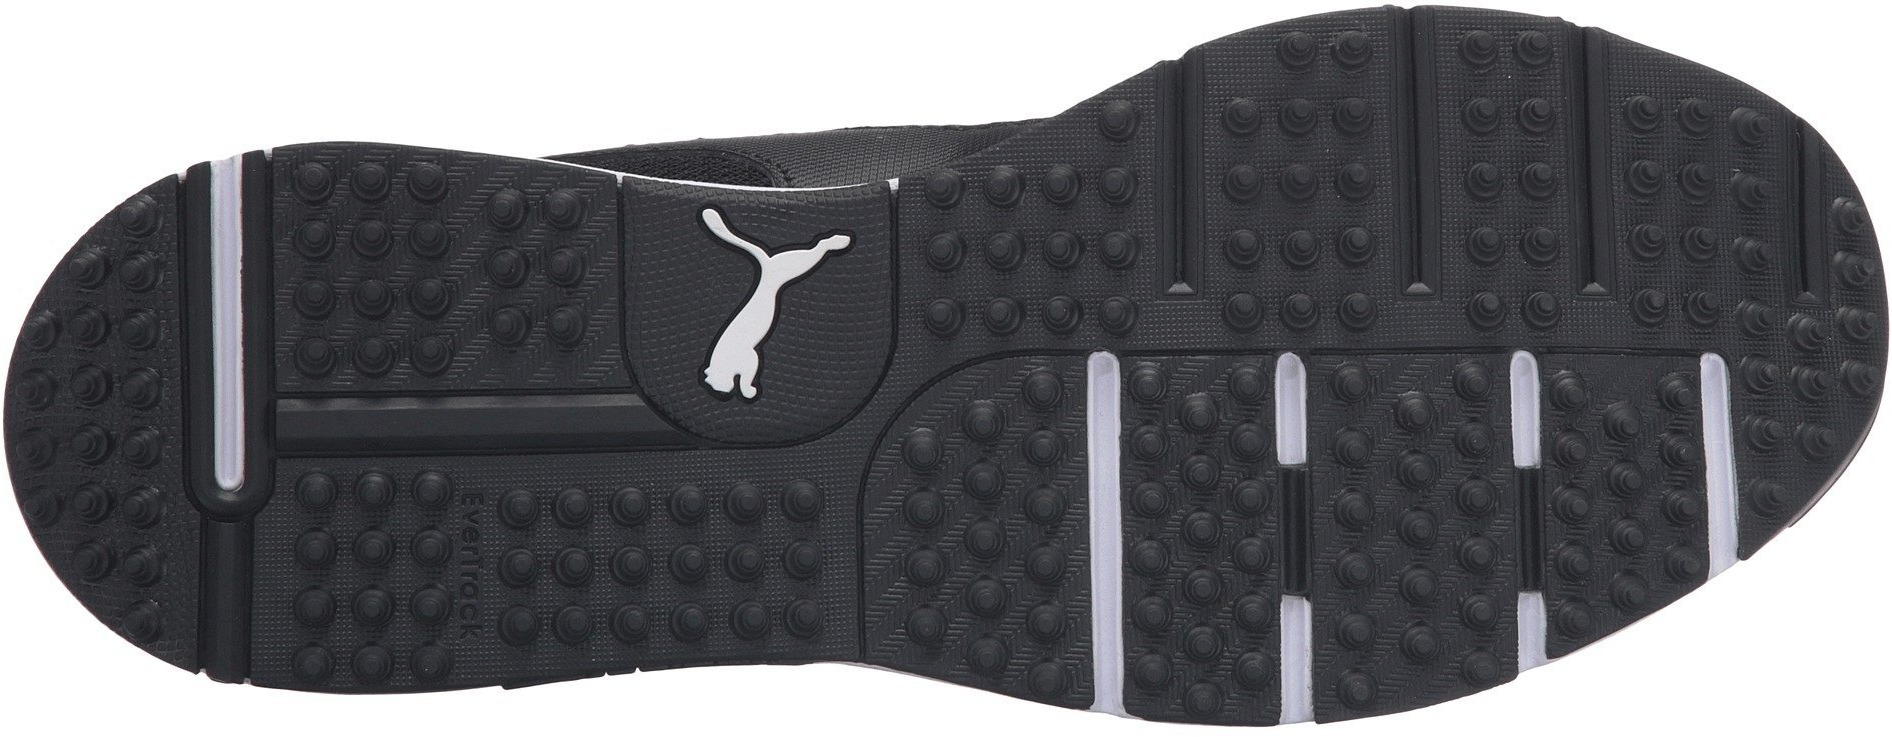circle: (490, 475, 845, 653), (1329, 353, 1497, 688), (1125, 351, 1277, 716), (1215, 43, 1386, 343), (893, 425, 1071, 709), (279, 152, 475, 394), (1438, 4, 1570, 333), (916, 172, 1141, 346), (1542, 359, 1703, 590), (21, 293, 177, 527), (288, 470, 451, 690), (1621, 88, 1750, 343), (485, 177, 605, 381)
